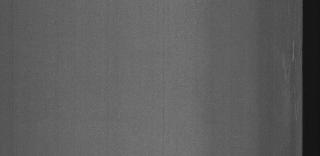silk spot: (274, 36, 300, 100)
